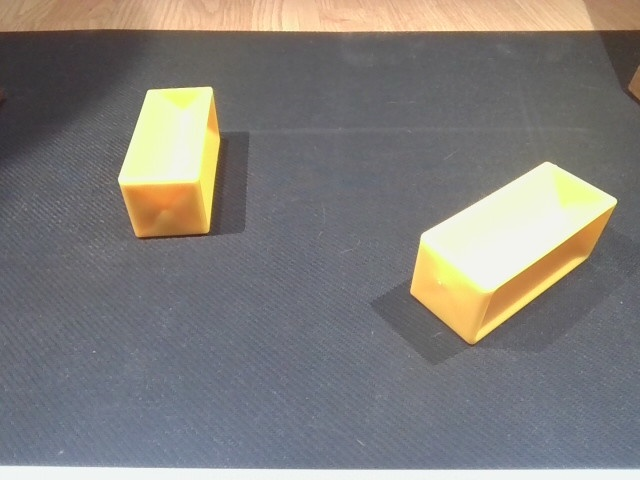YellowSample: (406, 159, 626, 346), (114, 81, 228, 239)
